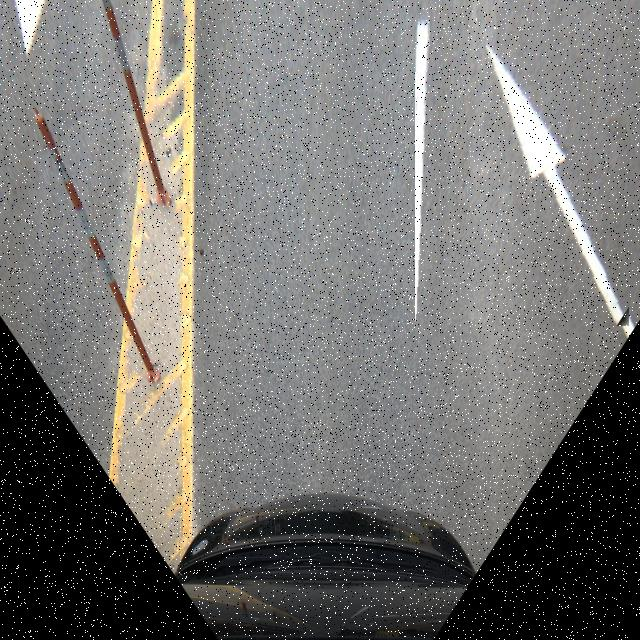chang_lane_left: (415, 31, 640, 339)
